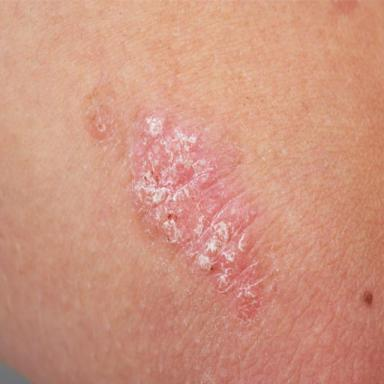Psoriasis: (129, 106, 264, 322), (85, 105, 115, 140)
